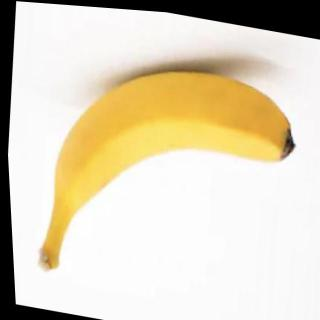banana: (40, 42, 308, 250)
